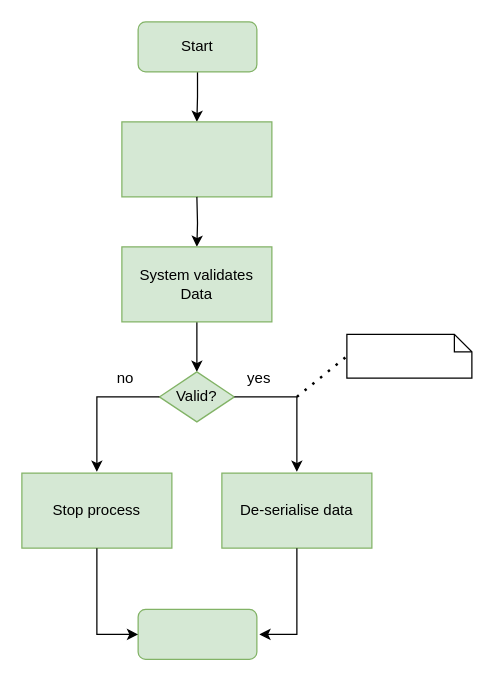
This 494x681 diagram has some shape labels left out. The centre of each missing label's shape, as x and y in pixels:
"End" belongs at (x=197, y=633).
"False positive" belongs at (x=409, y=355).
"Request API Data" belongs at (x=196, y=159).
